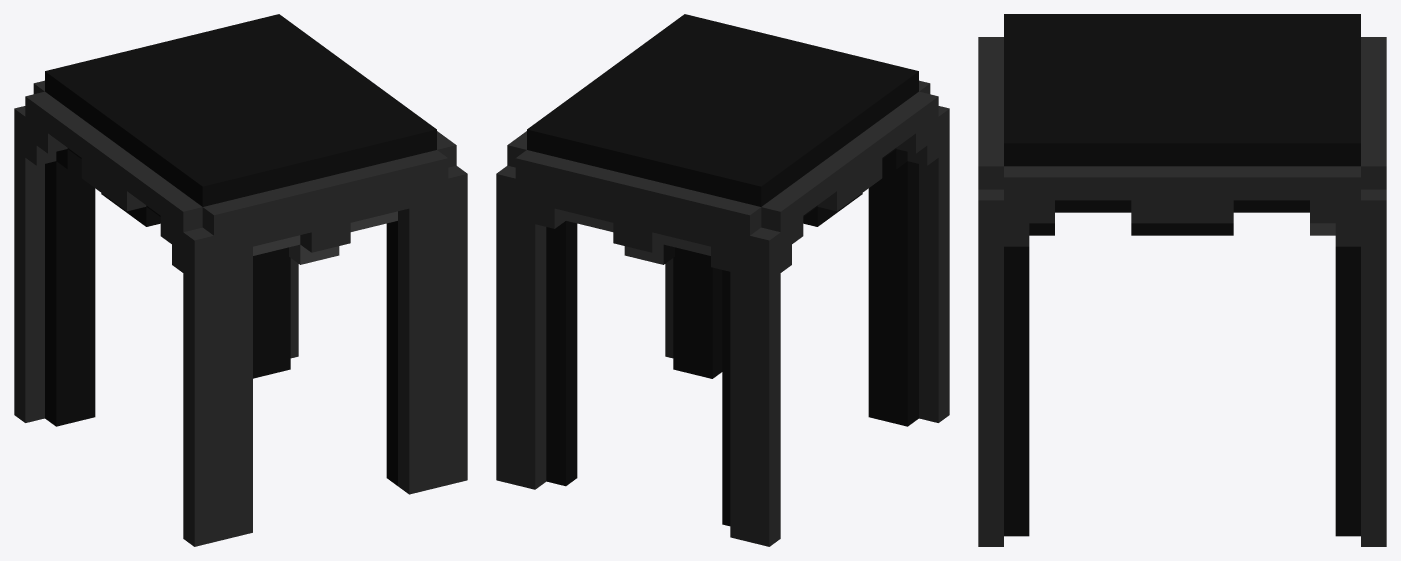
Rendered from Side Table.FBX.
The picture shows the model from 3 angles, left to right: view 1: azimuth 30°, elevation 25°; view 2: azimuth 150°, elevation 25°; view 3: azimuth 270°, elevation 25°; orthographic projection. The views are drawn at different scales.
Parts seen in each view (by area): view 1: Side Table; view 2: Side Table; view 3: Side Table.
Boxes of the visible parts, x1,y1,x2,y2 form: Side Table: [14, 14, 467, 546]; Side Table: [496, 14, 949, 546]; Side Table: [978, 14, 1386, 546].
Size of the model in its own units: 4.34 by 5.27 by 4.96.
Materials: 3 (1 with a texture image).
